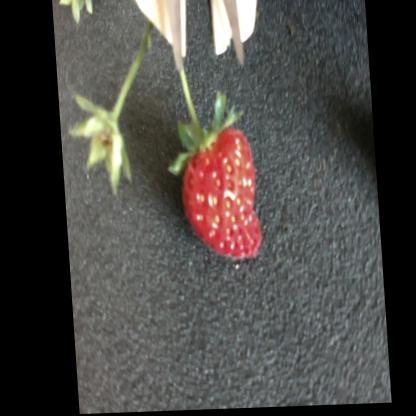ripe: (170, 120, 274, 252)
